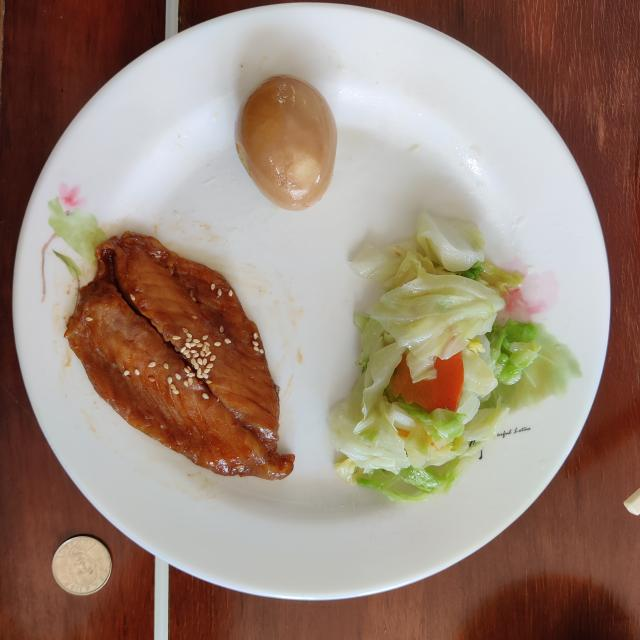Kabayaki sea bream fillet: (65, 231, 294, 479)
cabbage: (328, 212, 540, 501)
coin: (52, 536, 111, 595)
soy egg: (235, 75, 338, 211)
